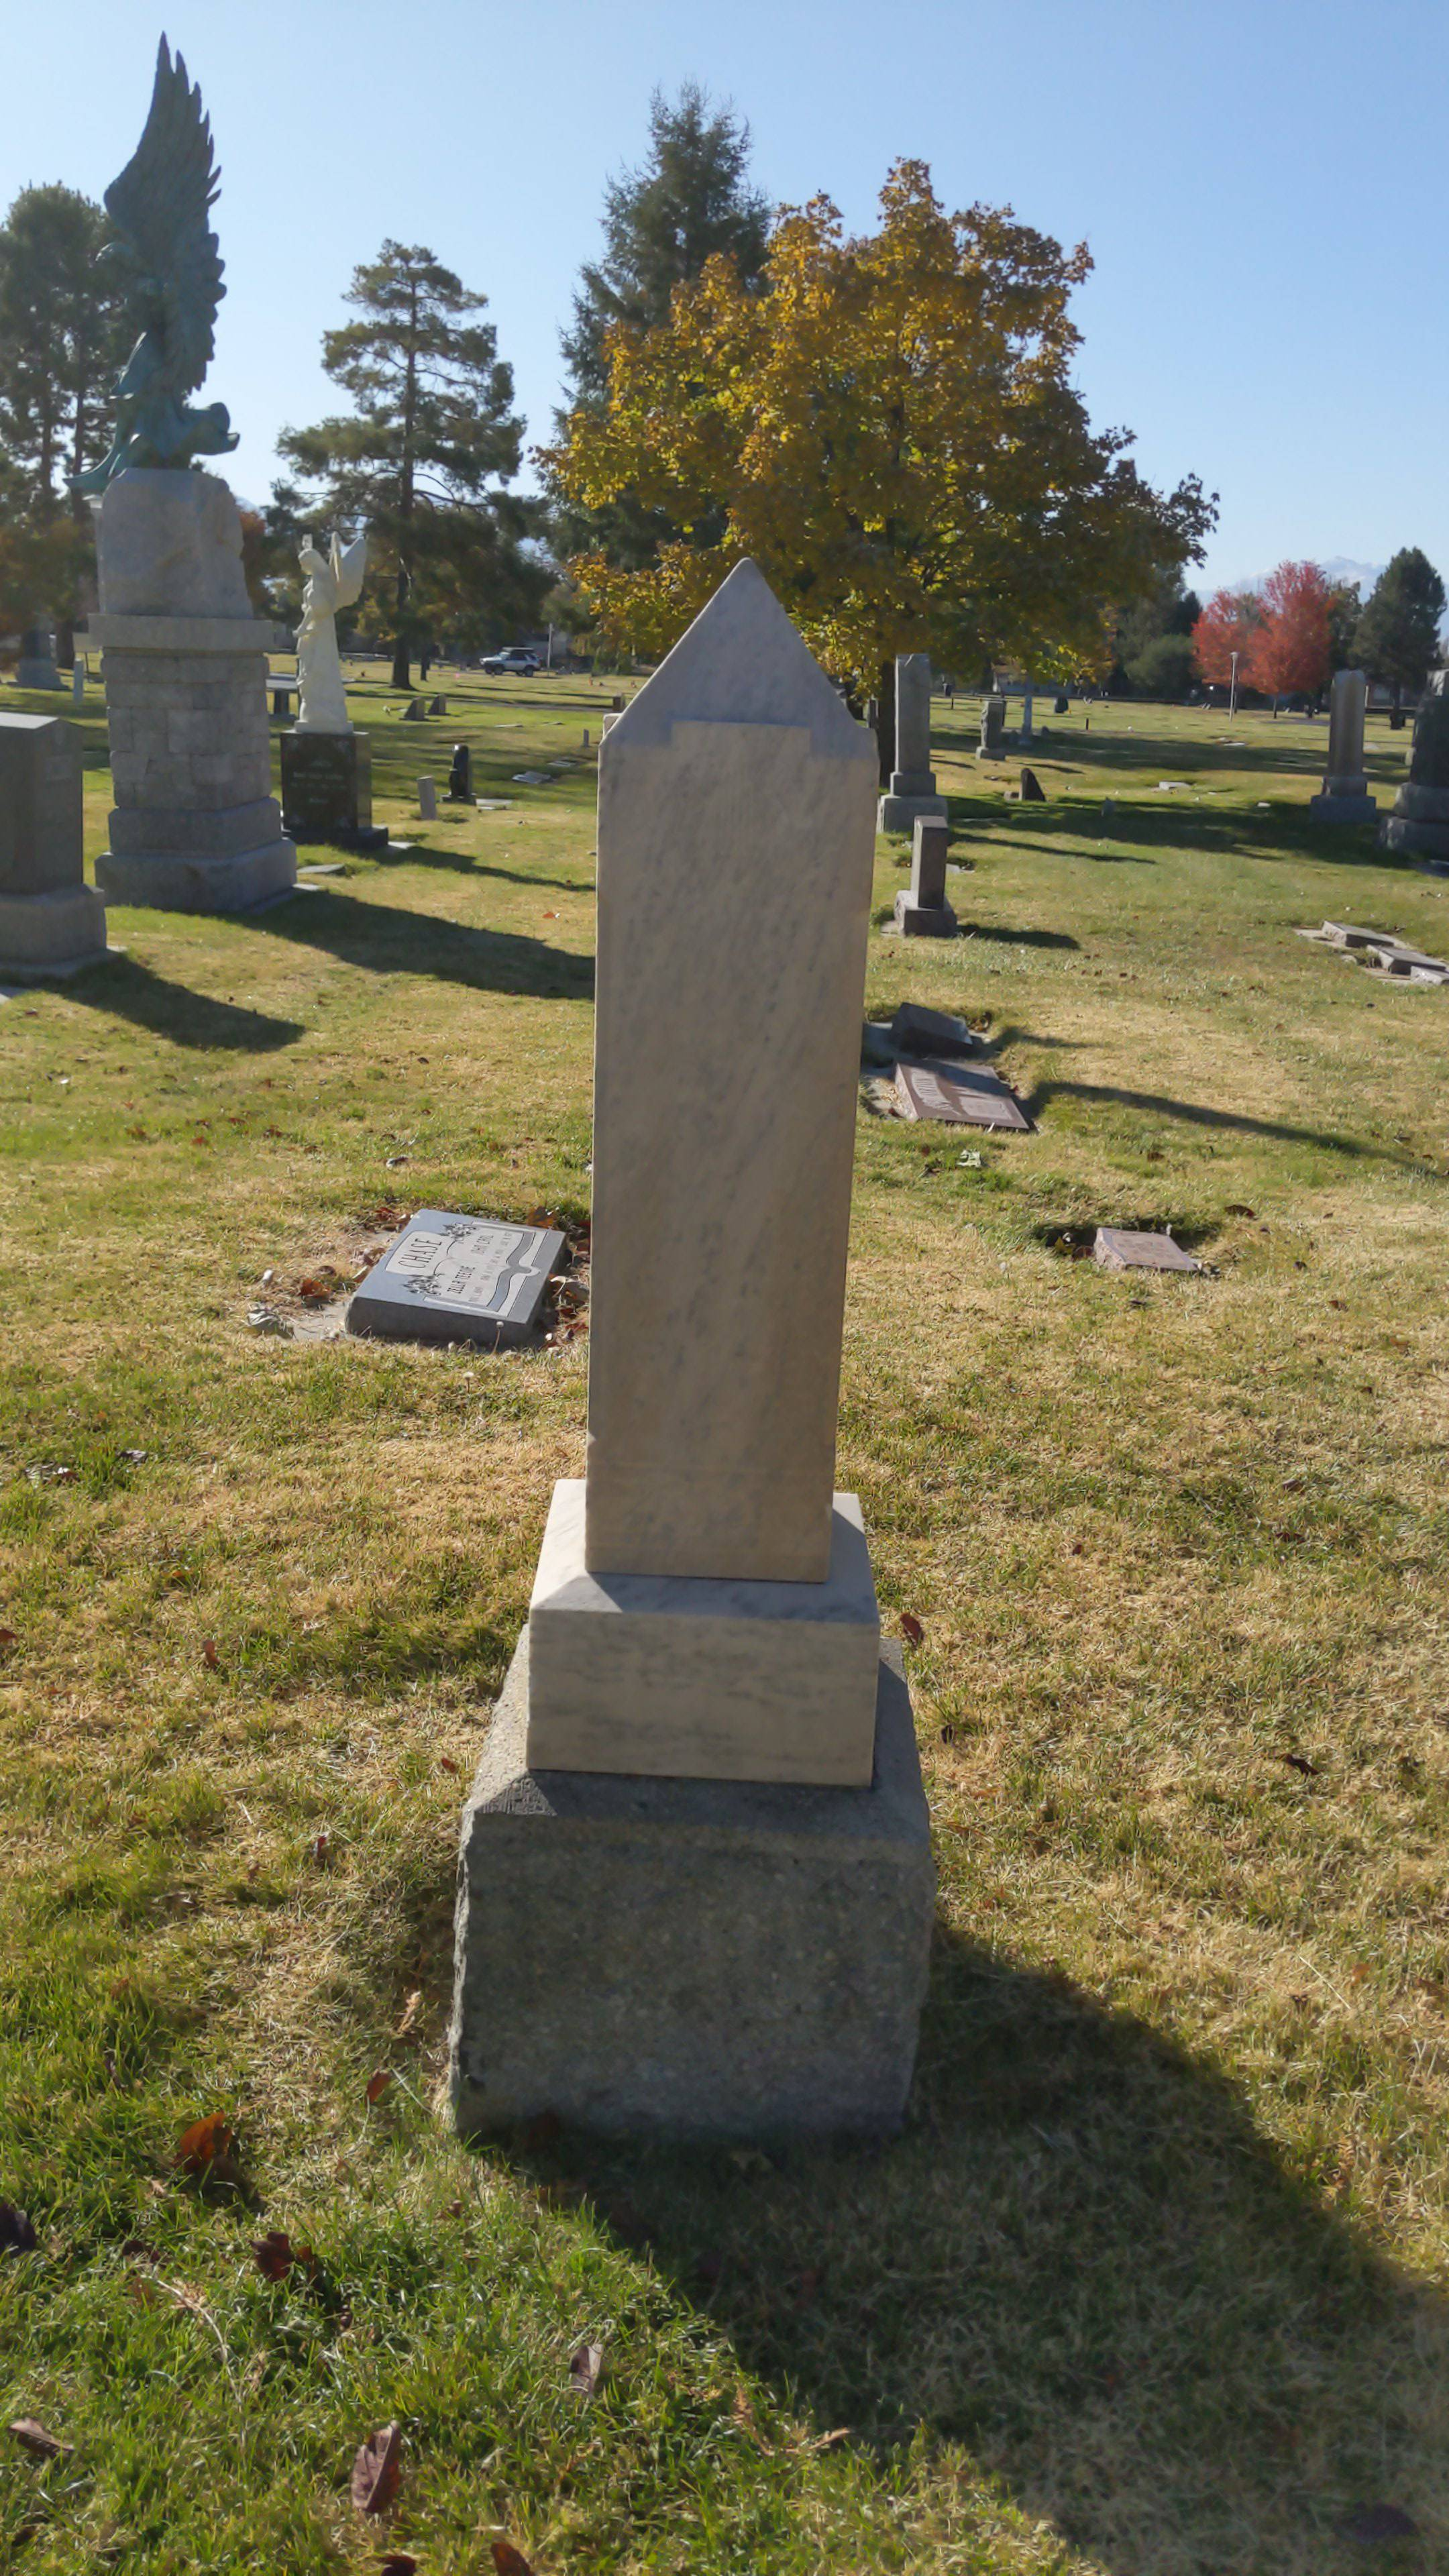obelisk: (533, 552, 876, 1780)
